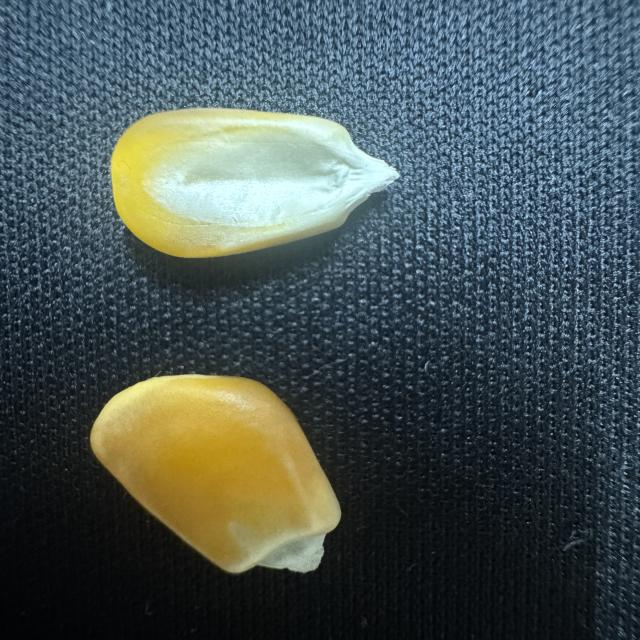Good-Seed: (83, 361, 367, 583), (100, 99, 407, 281)
